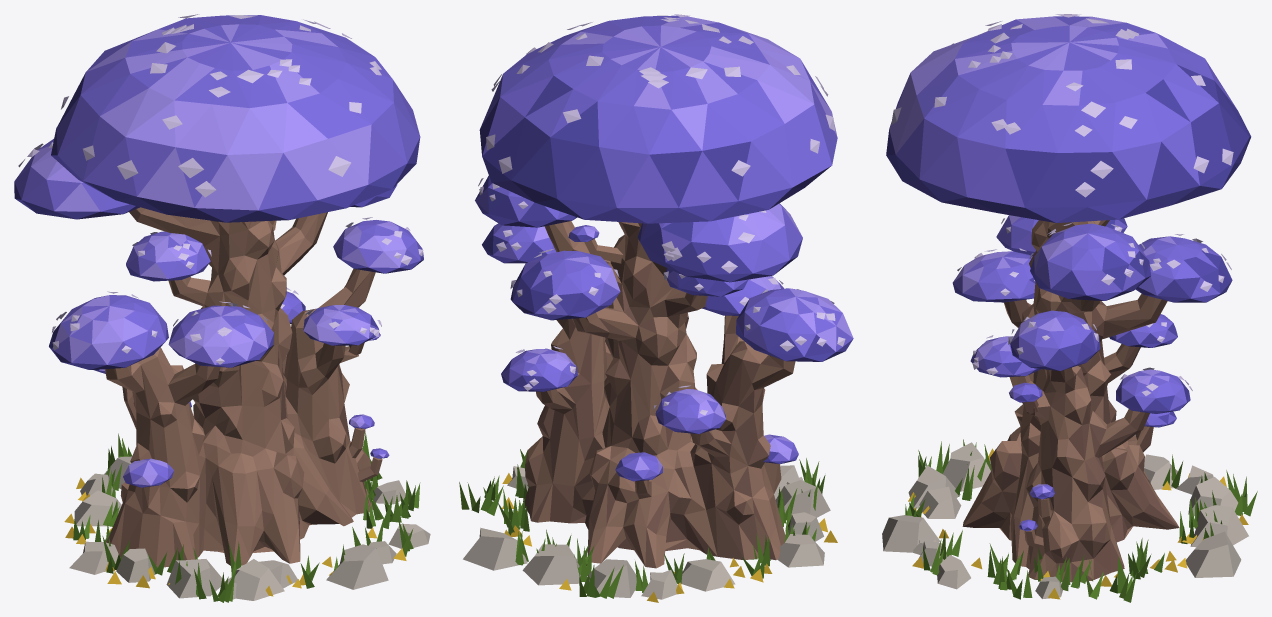
The model's file is giant_mushroom_bloom.glb.
3 views of the same model, side by side, from view 1: azimuth 30°, elevation 25°; view 2: azimuth 150°, elevation 25°; view 3: azimuth 270°, elevation 25° (orthographic).
Parts seen in each view (by area): view 1: giant_mushroom_bloom; view 2: giant_mushroom_bloom; view 3: giant_mushroom_bloom.
Part boxes in pixels (x1,y1,x2,y2): giant_mushroom_bloom: [14, 14, 430, 602]; giant_mushroom_bloom: [459, 14, 853, 602]; giant_mushroom_bloom: [882, 14, 1257, 602].
Bounding box in the file's own units: 17.16 × 22.15 × 15.71.
